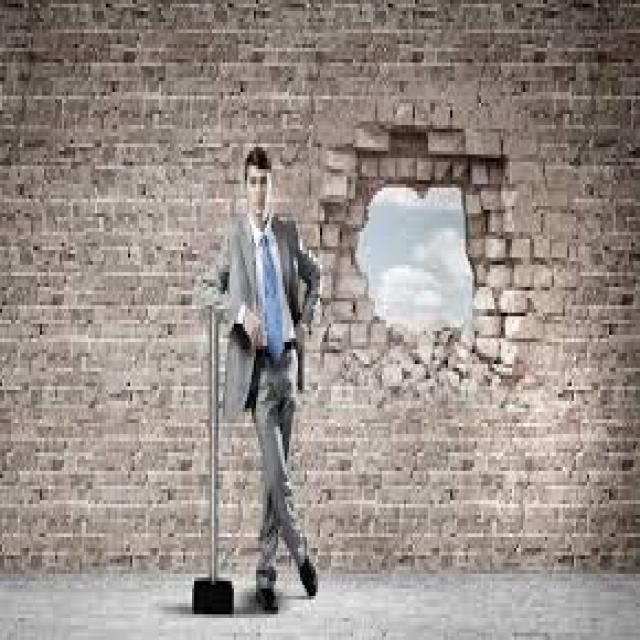hammer: (186, 285, 237, 624)
